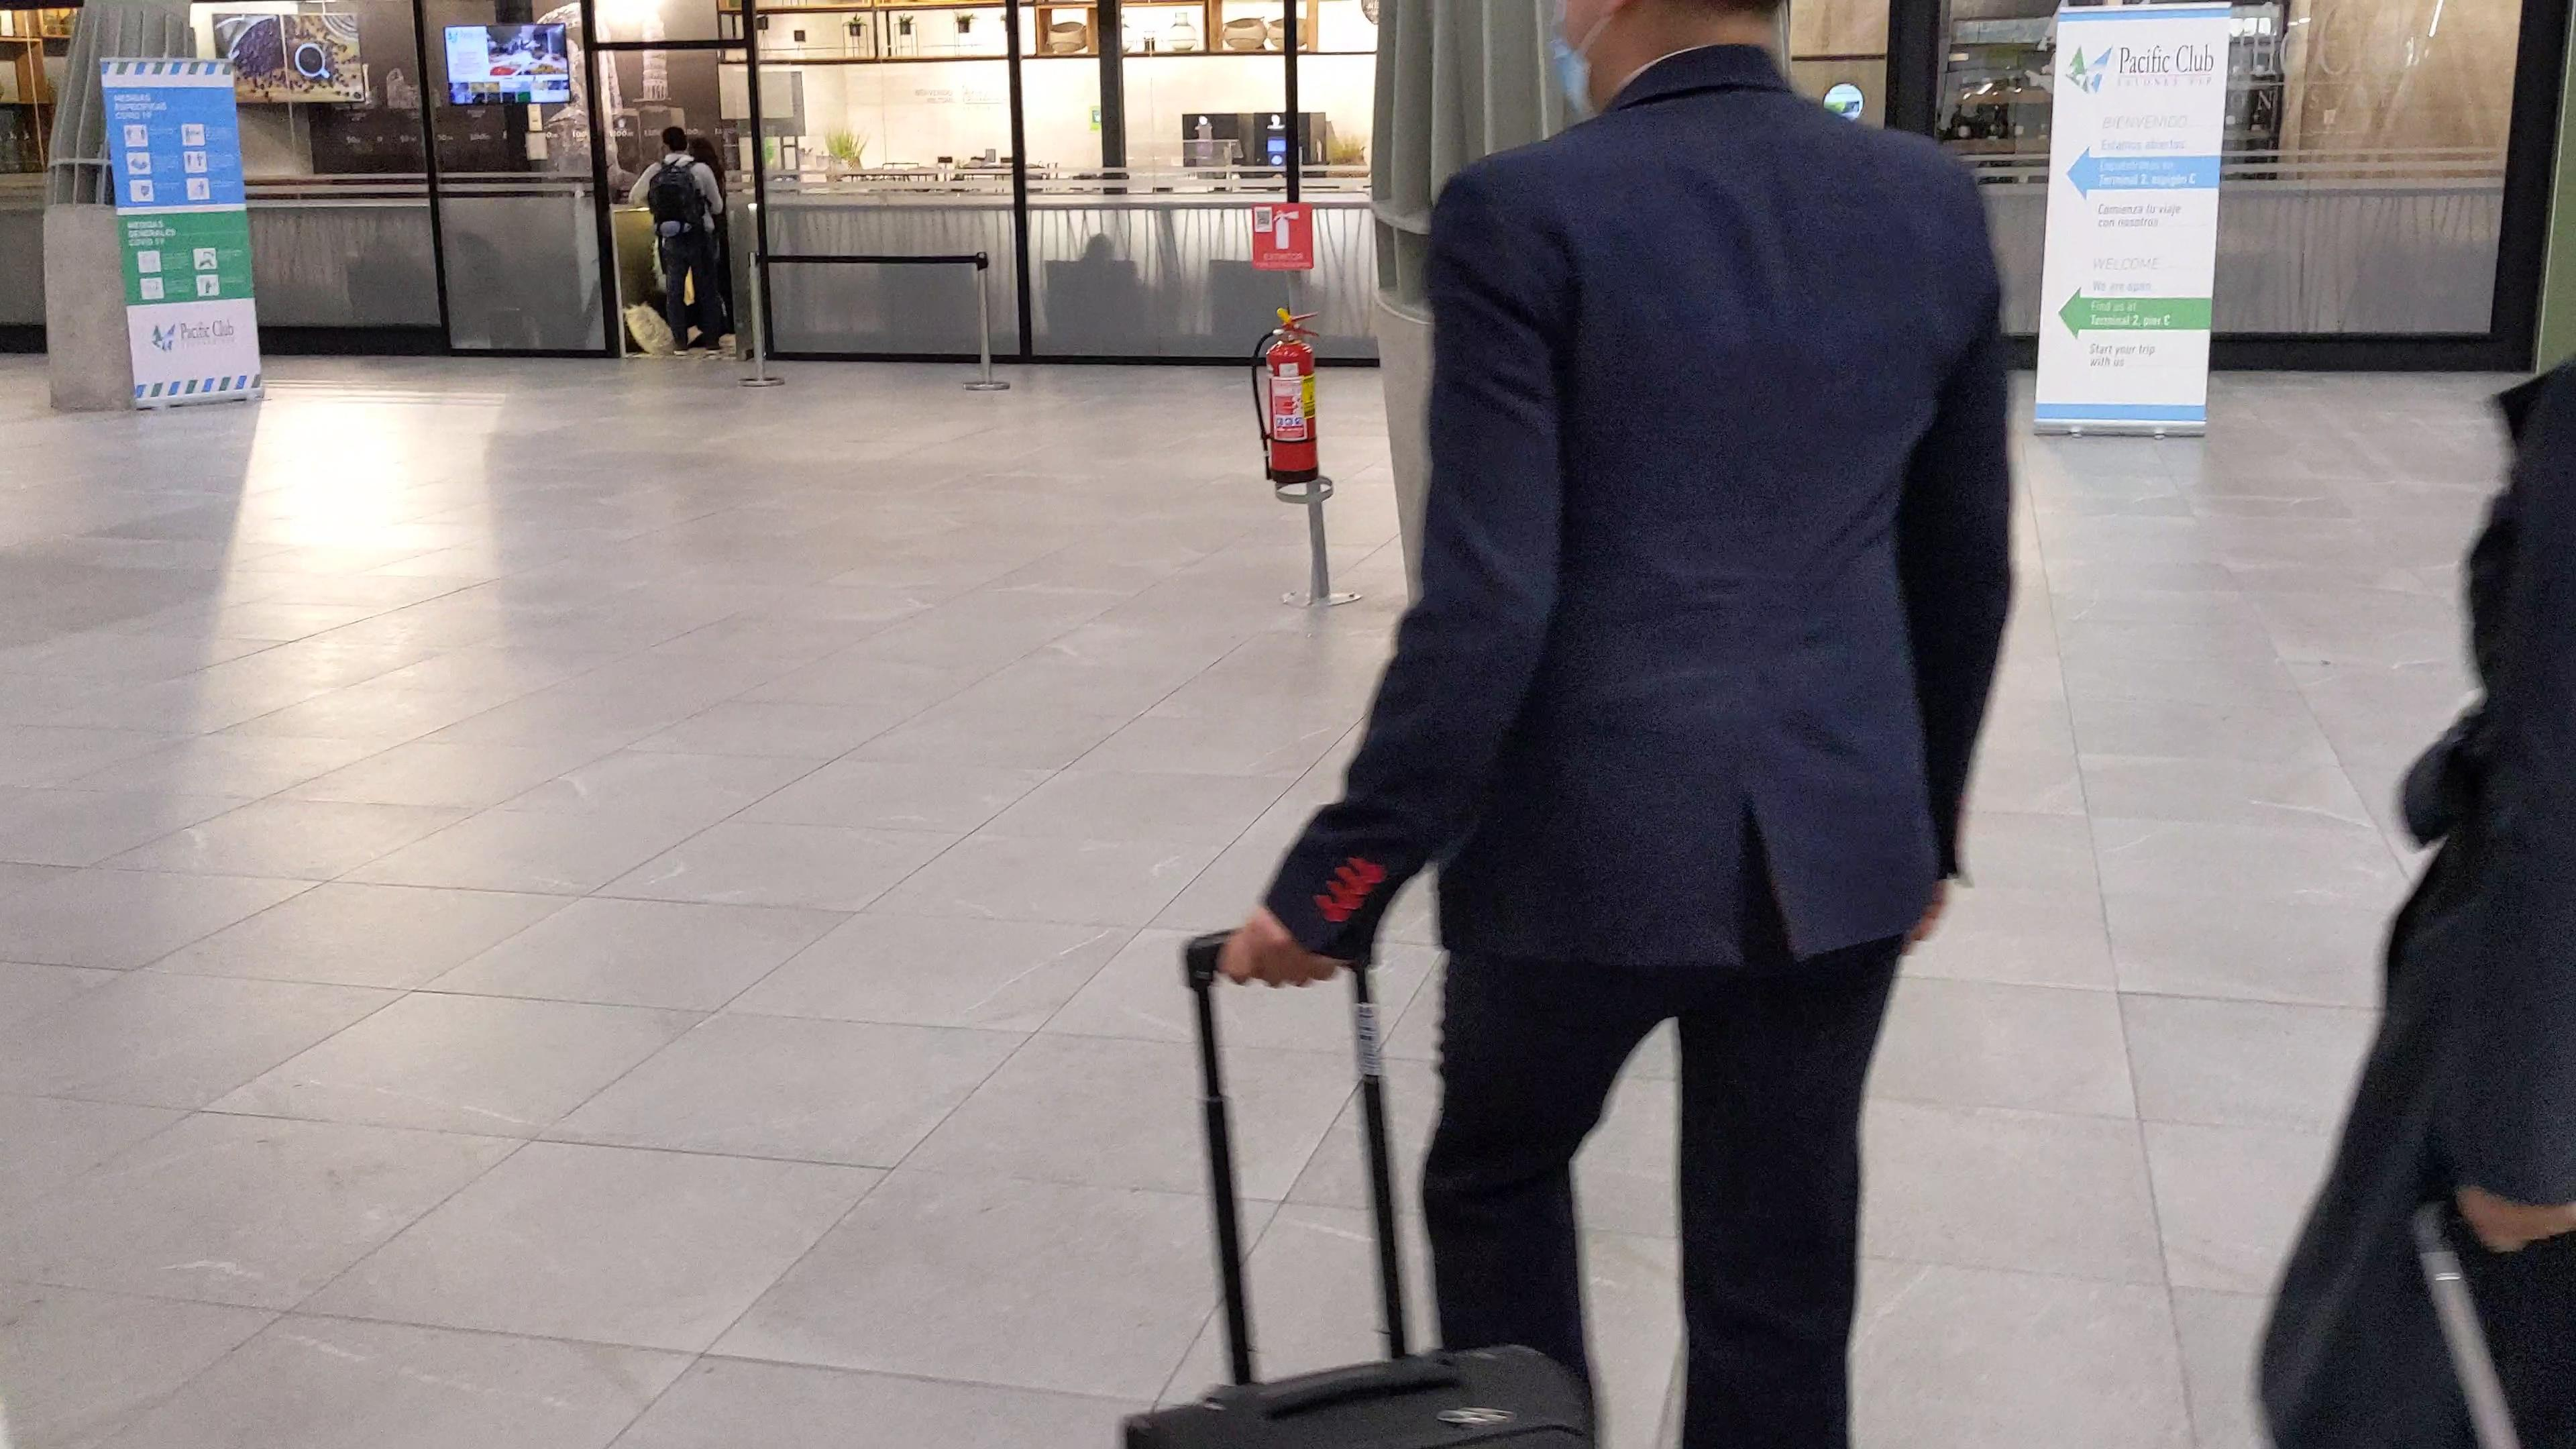extinguisher symbol: (1274, 209, 1300, 251)
fire-extinguisher: (1247, 304, 1325, 487)
